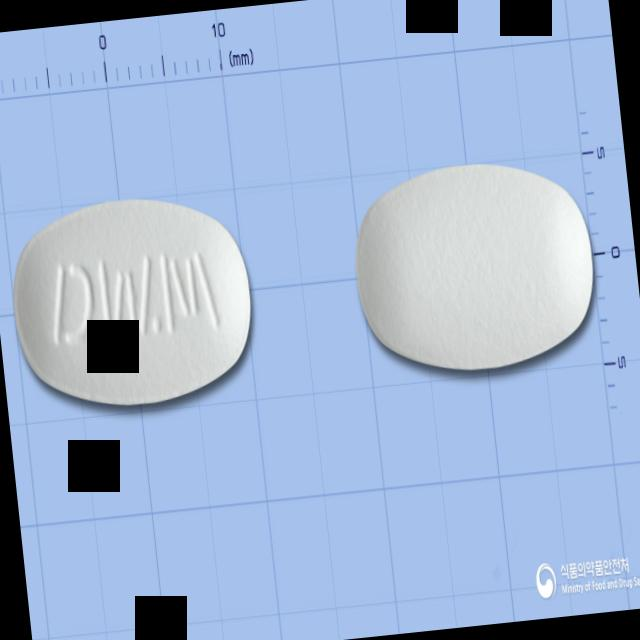Moxicle: (5, 186, 262, 418)
